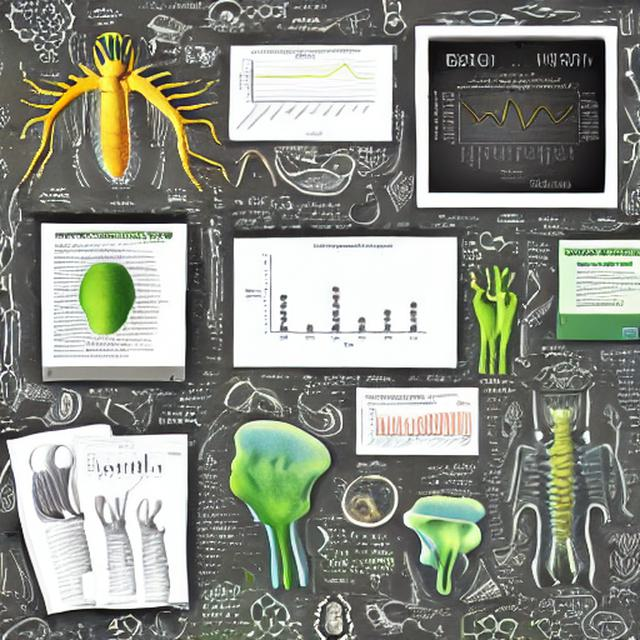Graph: (238, 239, 431, 352), (431, 75, 577, 177), (232, 47, 378, 136), (358, 402, 445, 452), (84, 444, 166, 493)
